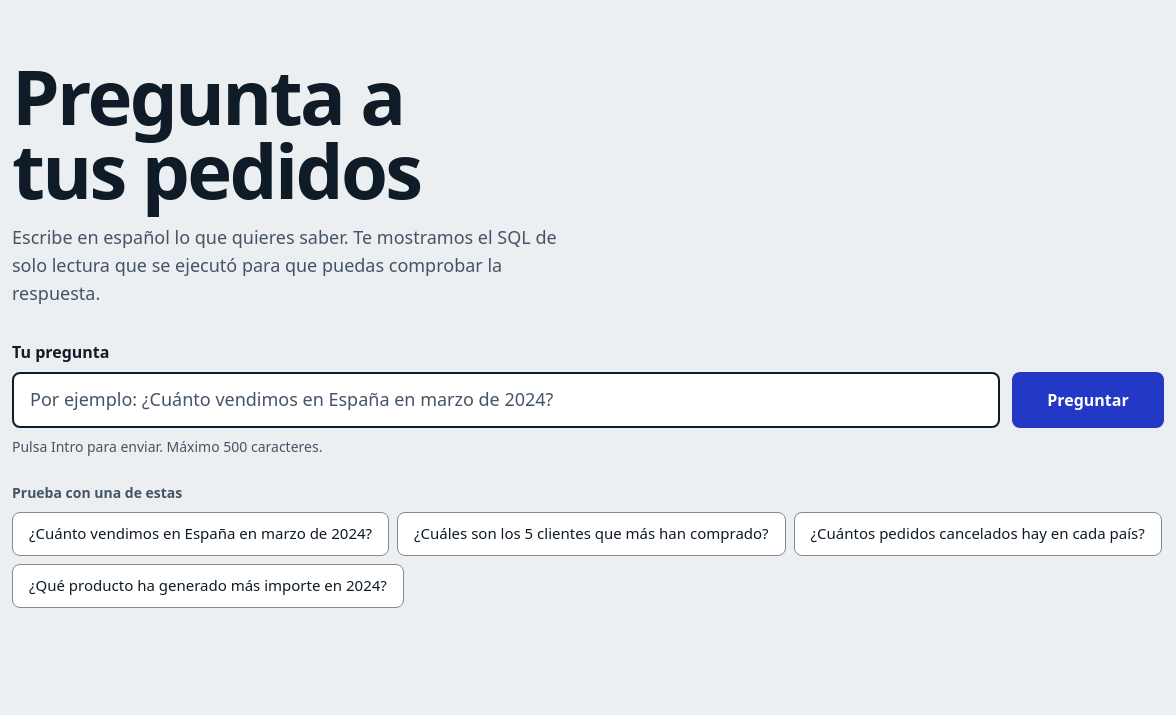
Test: QuestionPanel › muestra el SQL rechazado cuando llega en el error
Type "elimina pedidos" into the field labelled "Tu pregunta" at (506, 400), box [12,372,1000,428]
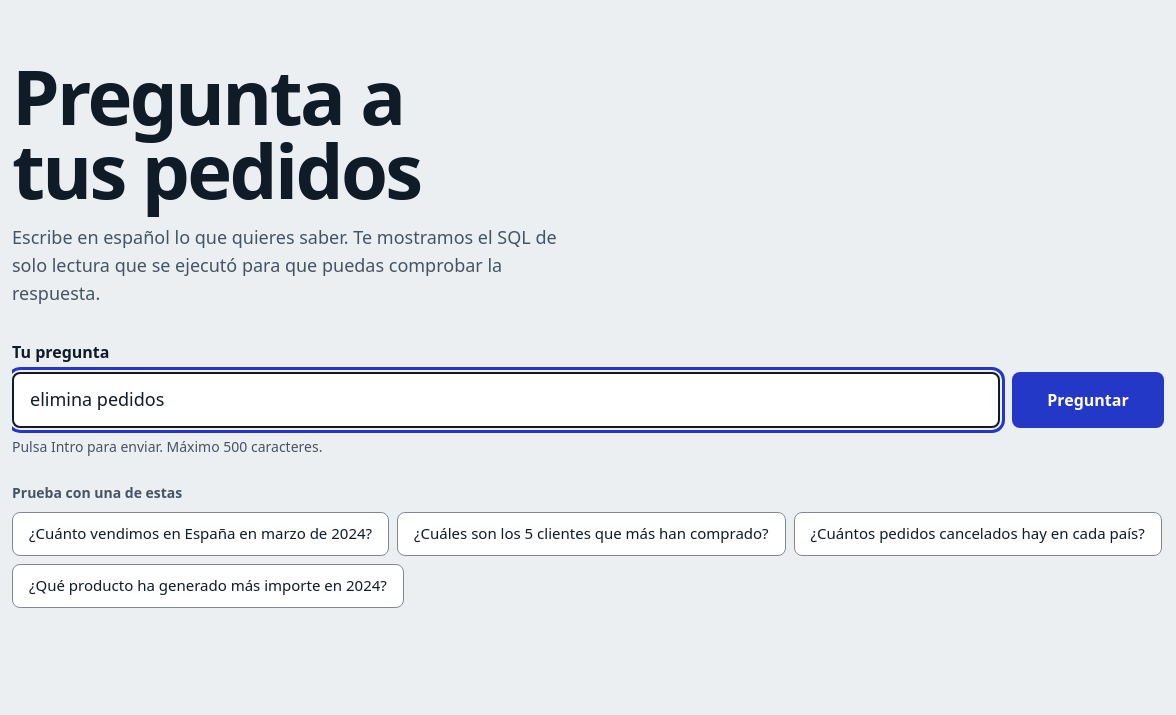
Press Enter
(page scrolled)
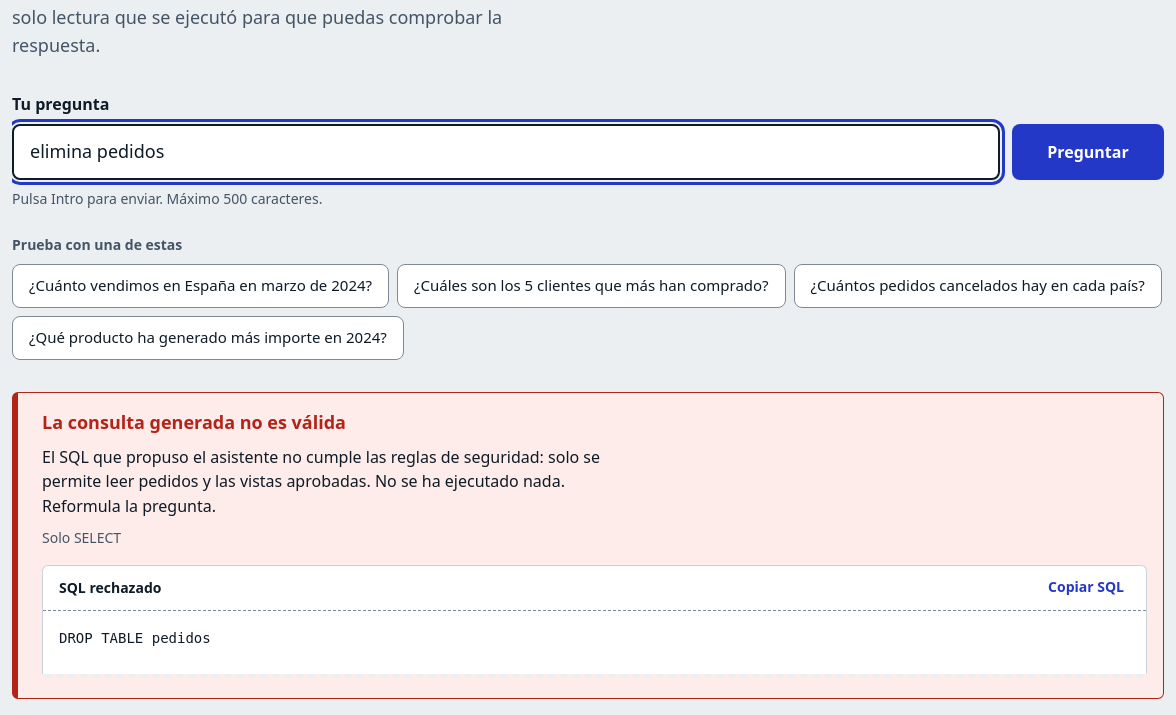
Result: the text "DROP TABLE pedidos" is shown at [59,630,211,646]
